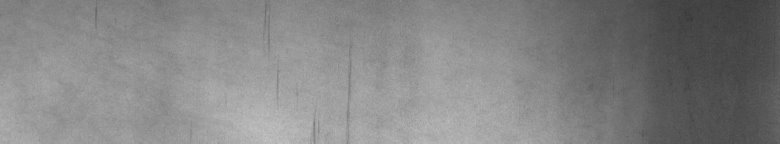ka: (277, 68, 351, 136)
